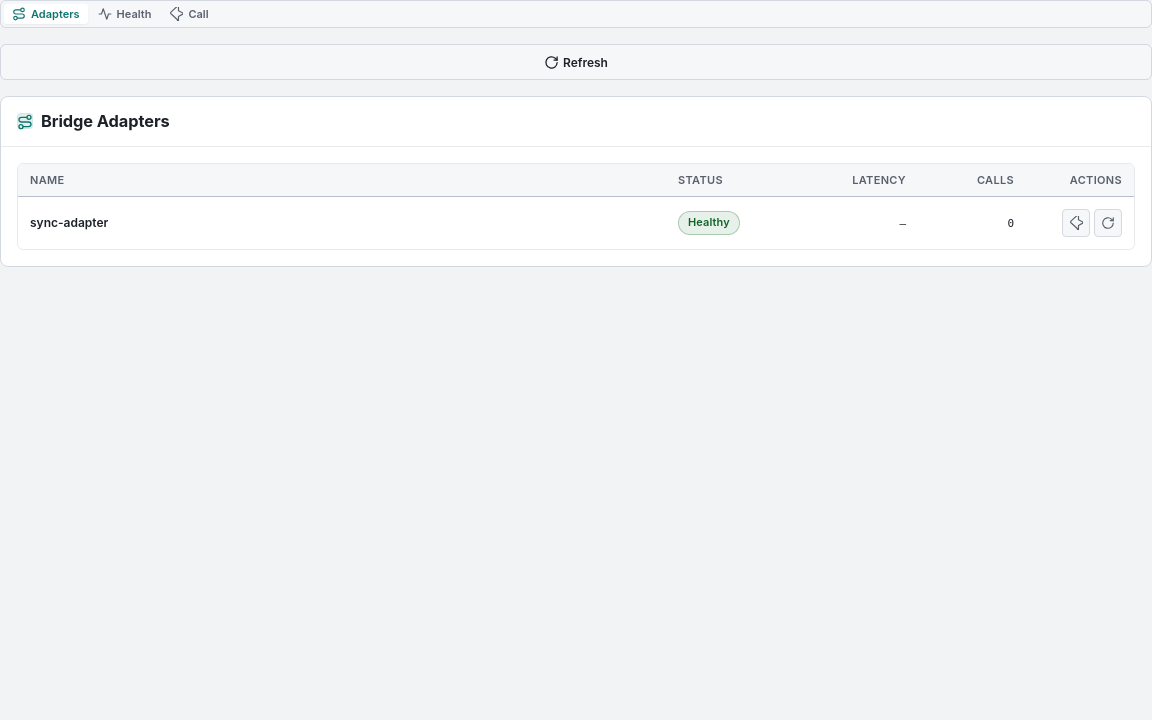
it: AgentProxy.vue › opens sync config modal when sync button clicked
Click the button named "Sync Config". click: (1108, 223)
box: [1094,209,1122,237]
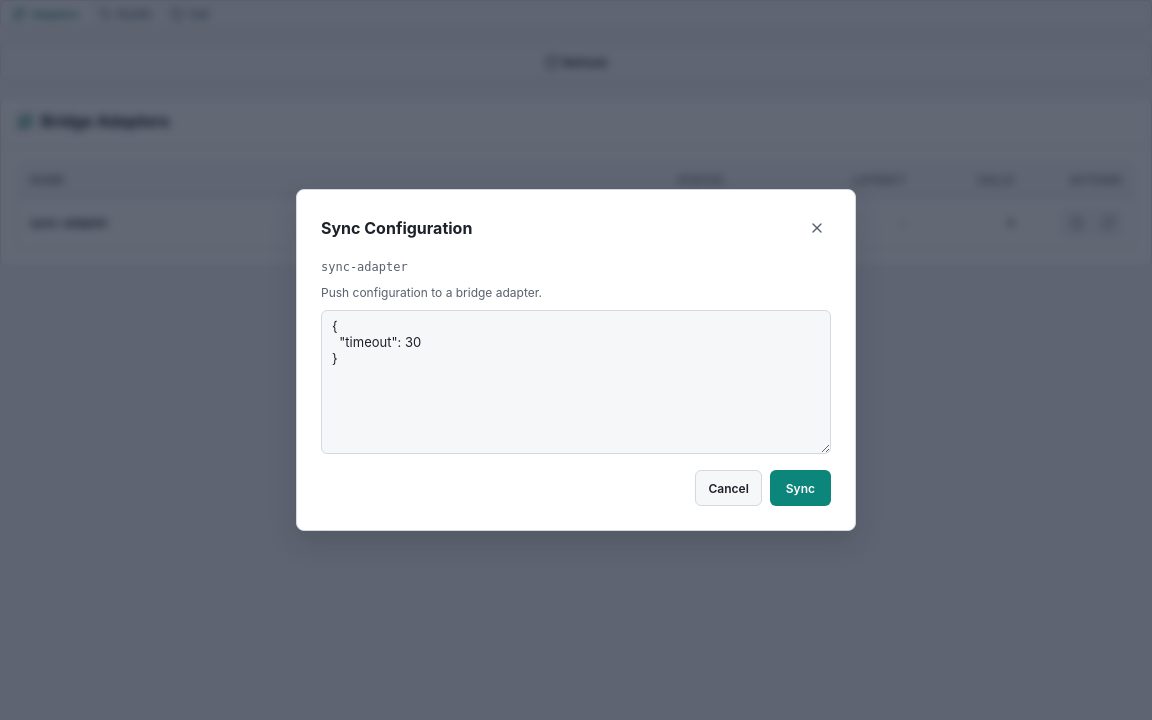
Check: the dialog with class "modal-overlay" is shown
